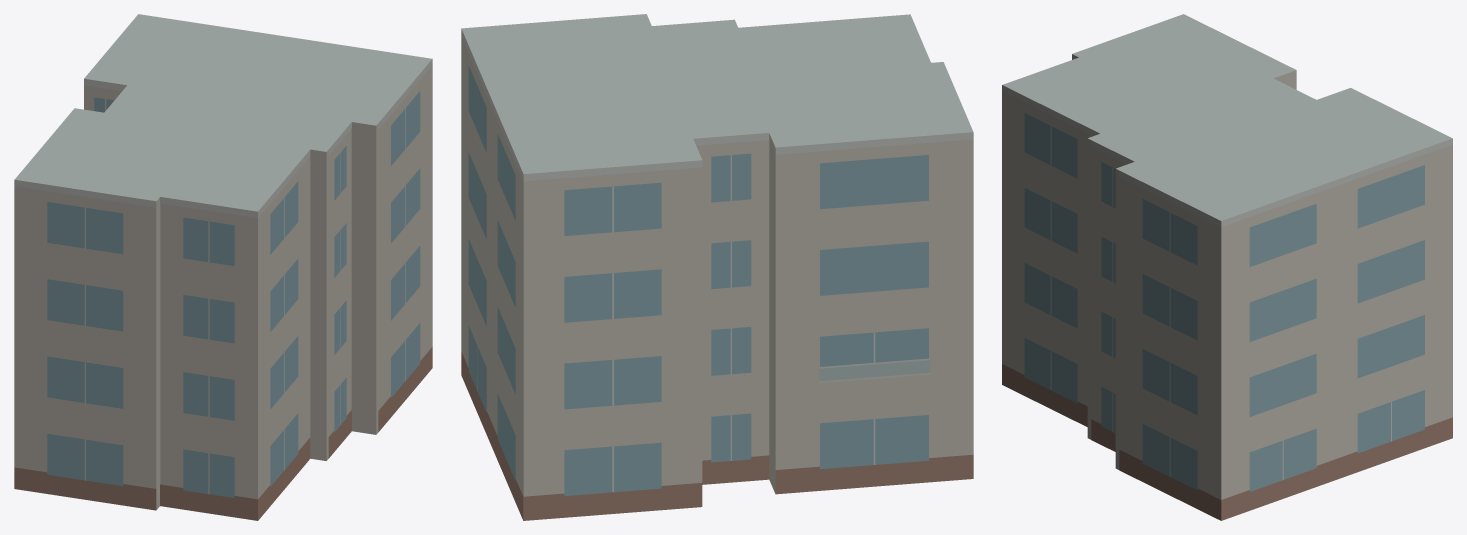
The model's file is survey-upis-32956915.glb.
3 renders of one model, left to right at view 1: azimuth 30°, elevation 25°; view 2: azimuth 150°, elevation 25°; view 3: azimuth 270°, elevation 25°, orthographic. The views are drawn at different scales.
Parts seen in each view (by area): view 1: survey-upis-32956915.tmp; view 2: survey-upis-32956915.tmp; view 3: survey-upis-32956915.tmp.
Part boxes in pixels (bbox=[...]): survey-upis-32956915.tmp: bbox=[14, 14, 432, 520]; survey-upis-32956915.tmp: bbox=[461, 14, 973, 520]; survey-upis-32956915.tmp: bbox=[1002, 14, 1452, 520].
Bounding box in the file's own units: 17.48 × 11.8 × 16.08.
